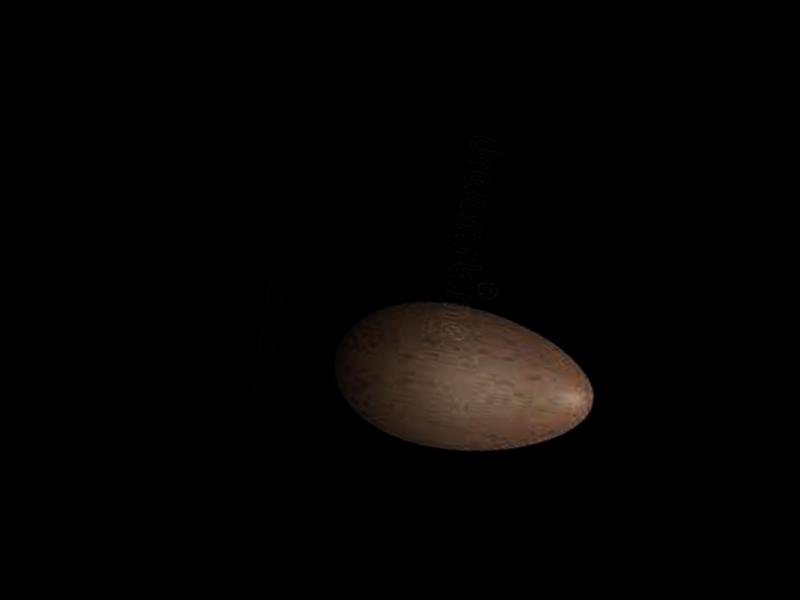Eggs: (322, 288, 606, 471)
